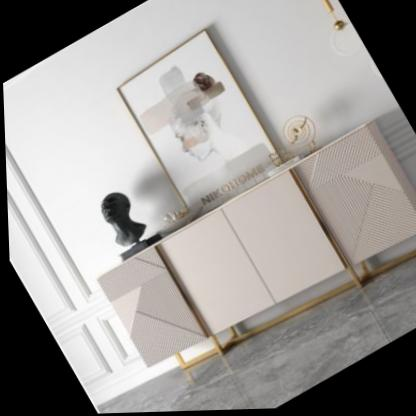Sideboard: (95, 122, 416, 389)
